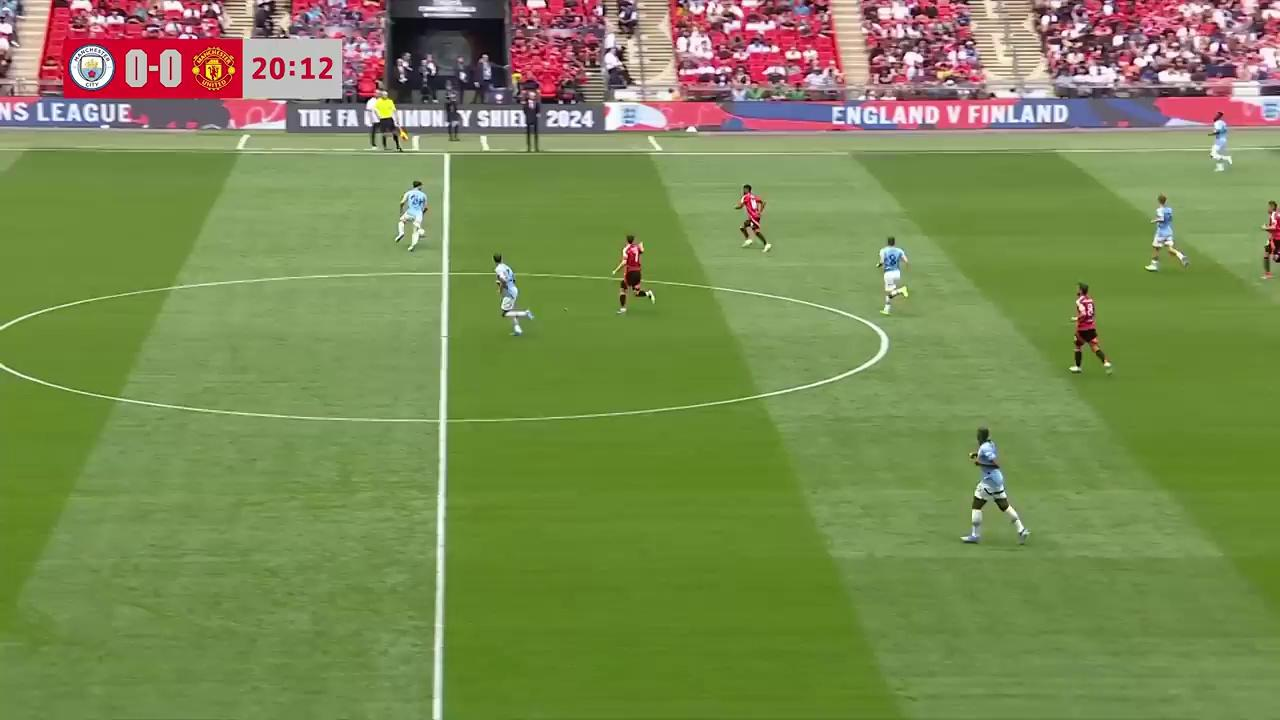ball: (414, 225, 427, 239)
player: (961, 426, 1030, 545), (1069, 282, 1113, 374), (492, 253, 535, 336), (1145, 193, 1189, 272), (613, 233, 655, 314), (876, 236, 909, 313), (735, 184, 771, 251), (395, 179, 428, 251), (1260, 200, 1279, 280), (1209, 112, 1233, 171)
referee: (377, 98, 404, 154)
